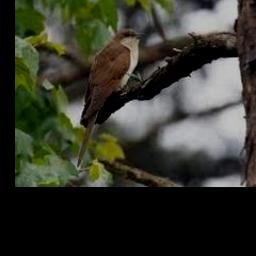Cuckoo: (77, 28, 145, 169)
